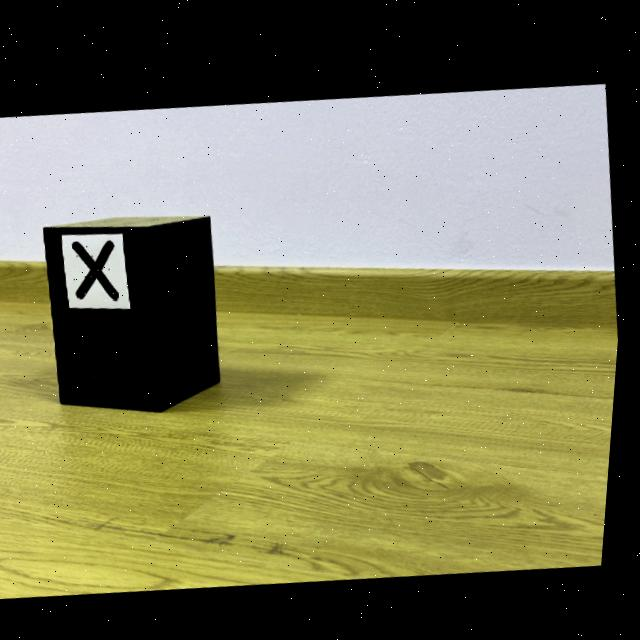X: (76, 239, 123, 298)
